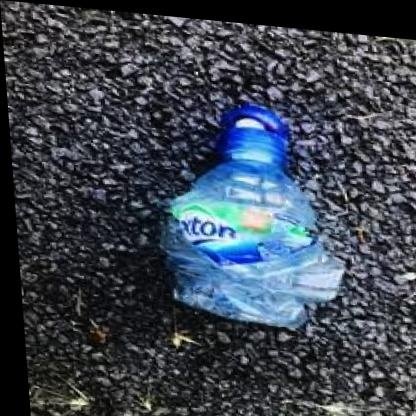trash: (162, 104, 344, 328)
